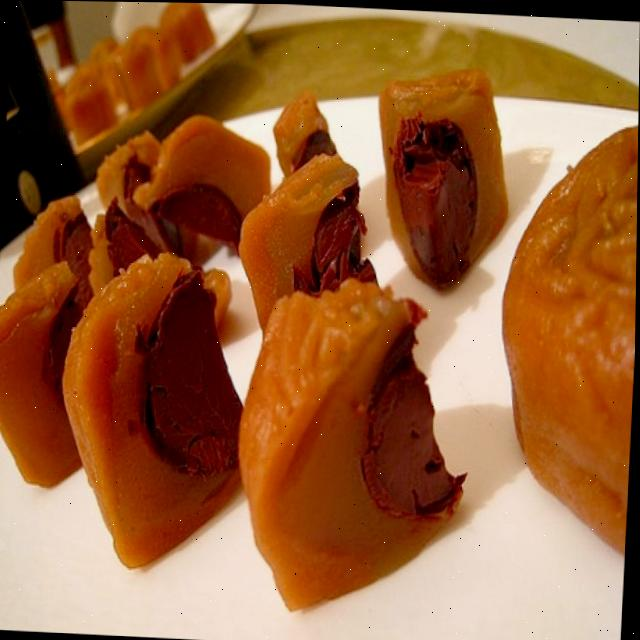蛋糕甜品: (0, 54, 639, 606)
